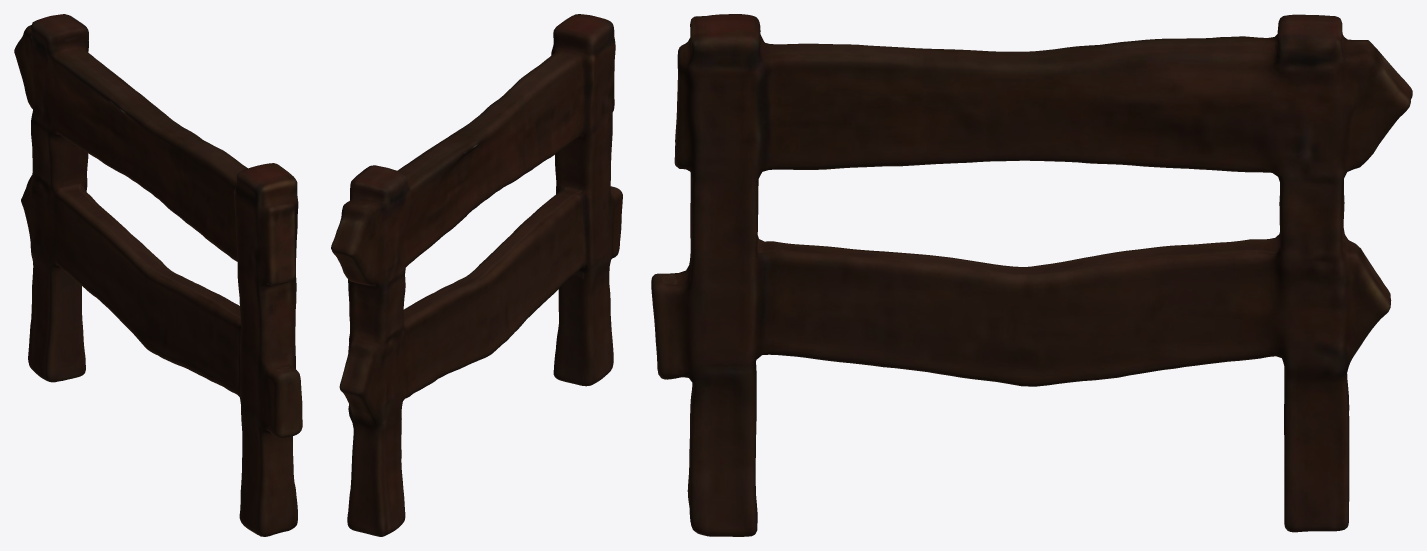
The model's file is 67cc2d058e1b_low_poly_wooden_emp.fbx.
3 views of the same model, side by side, from view 1: azimuth 30°, elevation 25°; view 2: azimuth 150°, elevation 25°; view 3: azimuth 270°, elevation 25° (orthographic). The views are drawn at different scales.
Parts seen in each view (by area): view 1: mesh; view 2: mesh; view 3: mesh.
Part boxes in pixels (x1,y1,x2,y2): mesh: (14,14,302,536); mesh: (331,14,622,536); mesh: (651,14,1412,536).
Bounding box in the file's own units: 9.14 × 72.47 × 99.74.
